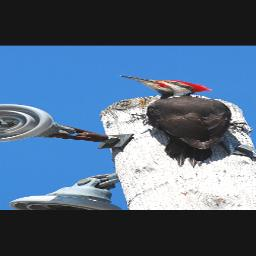Woodpecker: (110, 74, 256, 167)
